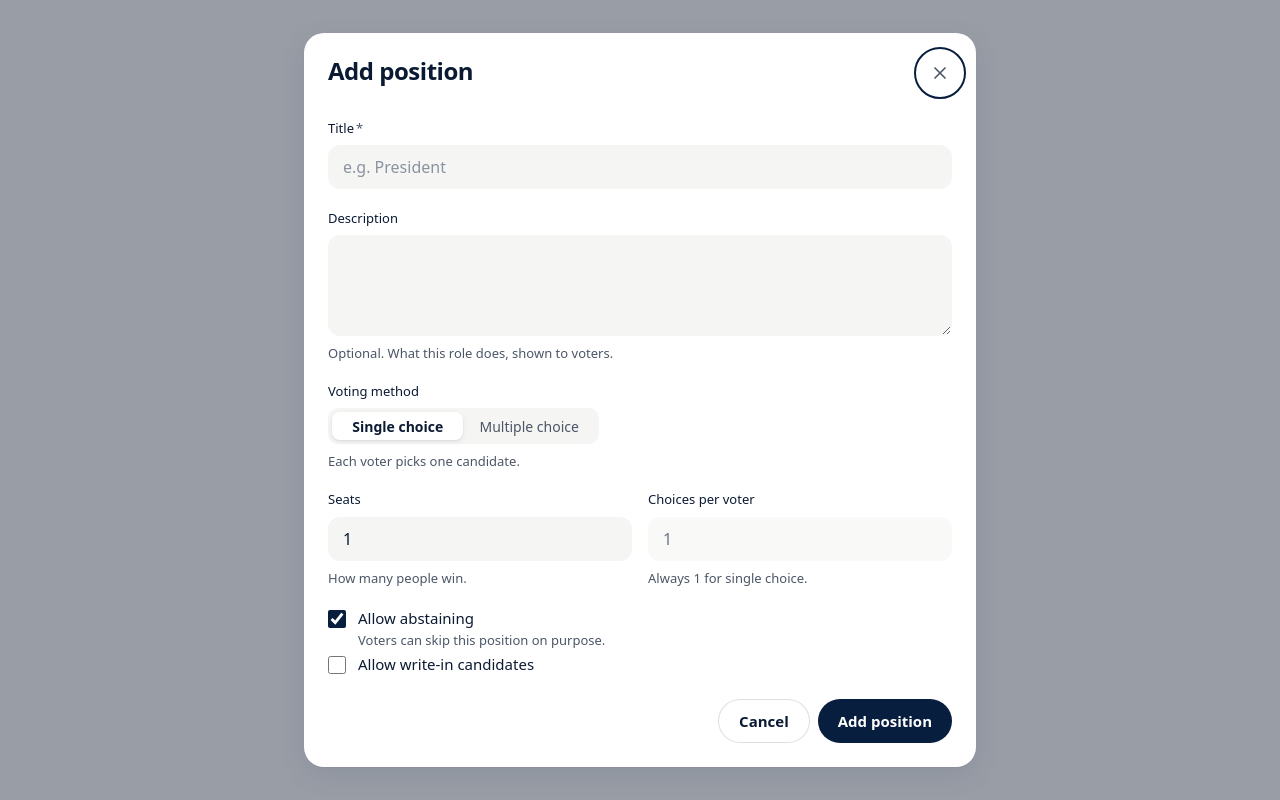
Scenario: PositionFormSheet › shows zod errors next to the fields and doesn't submit
Click the button "Add position": click(885, 721) [818,699,952,743]
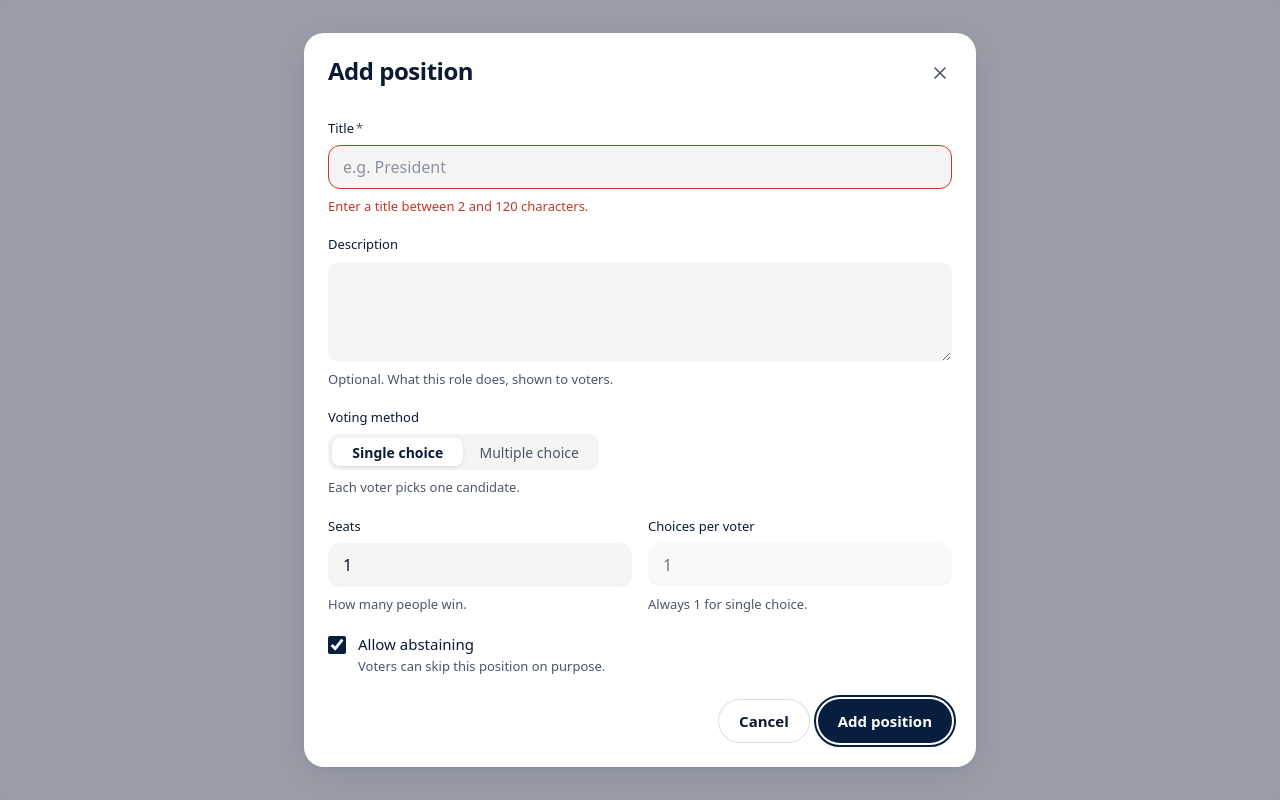
Result: the text "Enter a title between 2 and 120 characters." is shown at [328,197,588,215]
